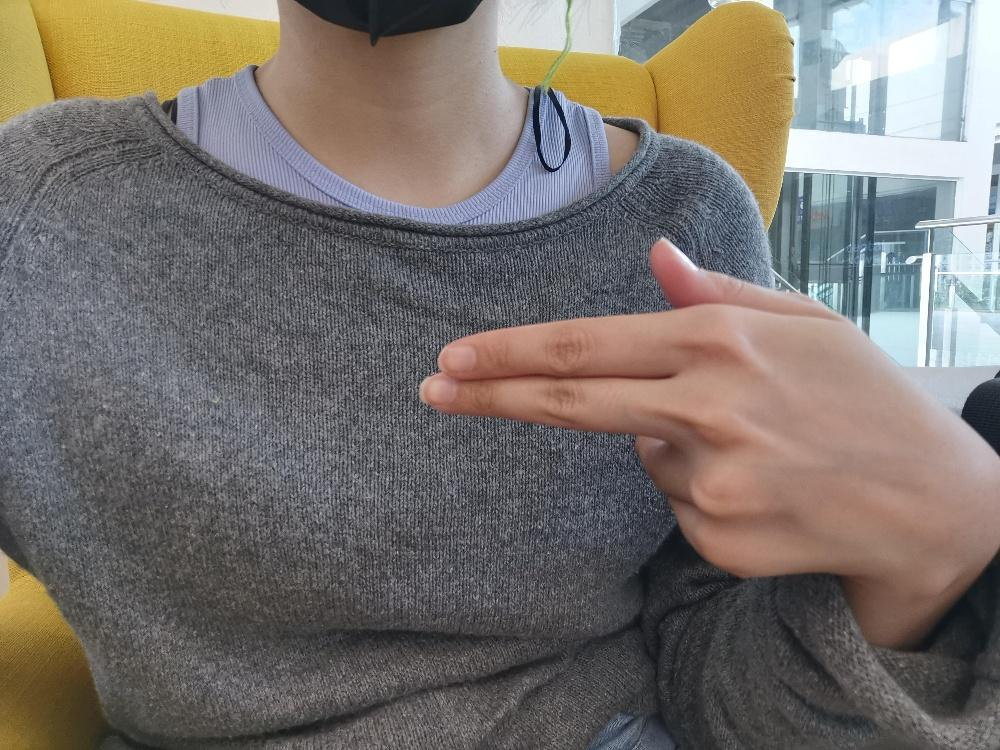h: (415, 233, 999, 600)
